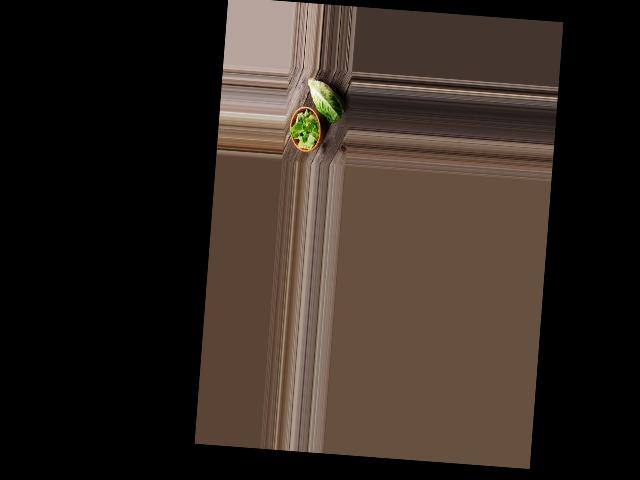lettuce: (305, 78, 347, 123)
